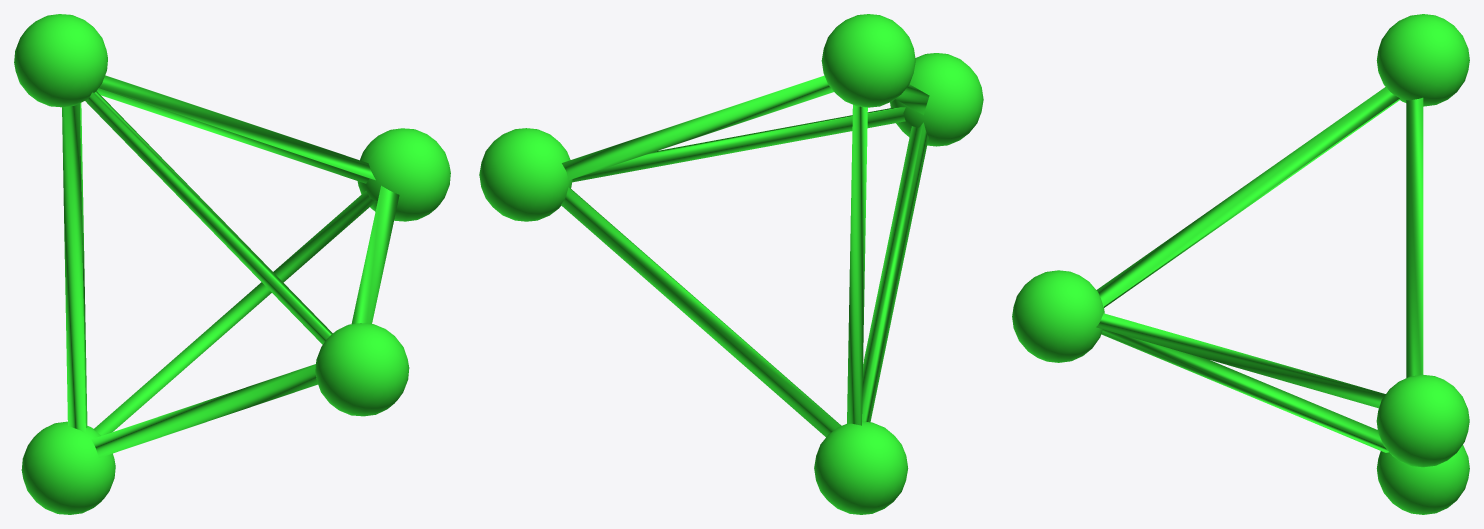
The model's file is Tet.obj.
3 views of the same model, side by side, from view 1: azimuth 30°, elevation 25°; view 2: azimuth 150°, elevation 25°; view 3: azimuth 270°, elevation 25° (orthographic).
Parts seen in each view (by area): view 1: Tet; view 2: Tet; view 3: Tet.
Part boxes in pixels (box(x1,y1,x2,y2)): Tet: box(14, 14, 450, 514); Tet: box(479, 14, 983, 514); Tet: box(1012, 14, 1469, 514).
Size of the model in its own units: 0.8975 by 1 by 0.8487.
